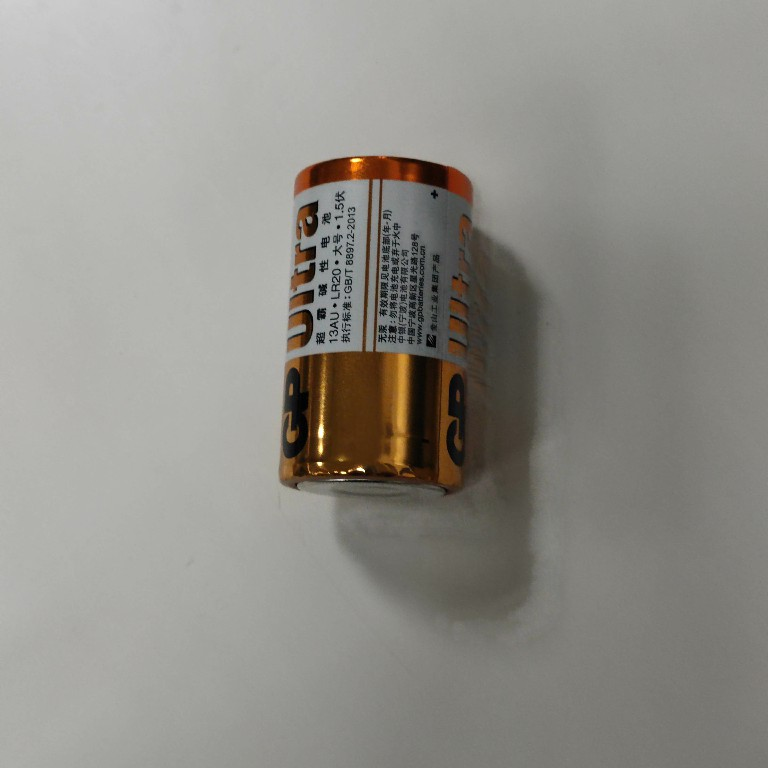charge: (272, 152, 478, 507)
